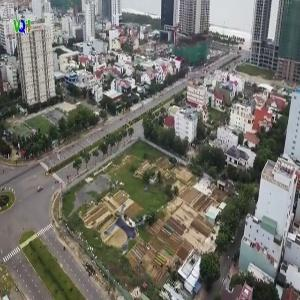drone: (99, 201, 159, 261)
